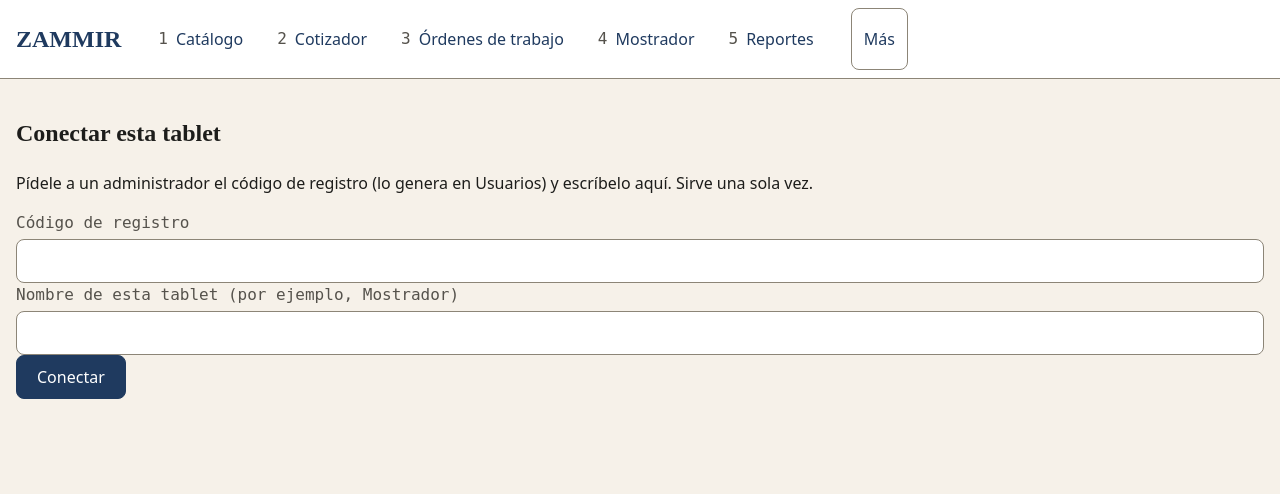
Test: pantalla Conectar esta tablet › si el servidor responde NETWORK_UNAVAILABLE, dice qué pasó y qué hacer
Type "ABCD2345" into the field labelled "Código de registro" at (640, 261), box [16,239,1264,283]
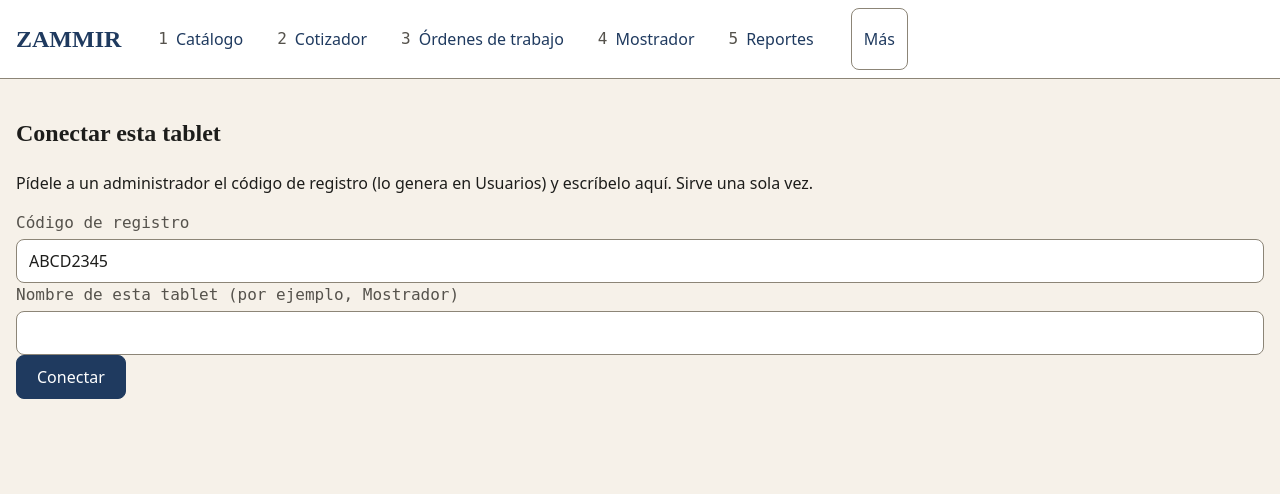
Type "Mostrador" into the field labelled "Nombre de esta tablet (por ejemplo, Mostrador)" at (640, 333), box [16,311,1264,355]
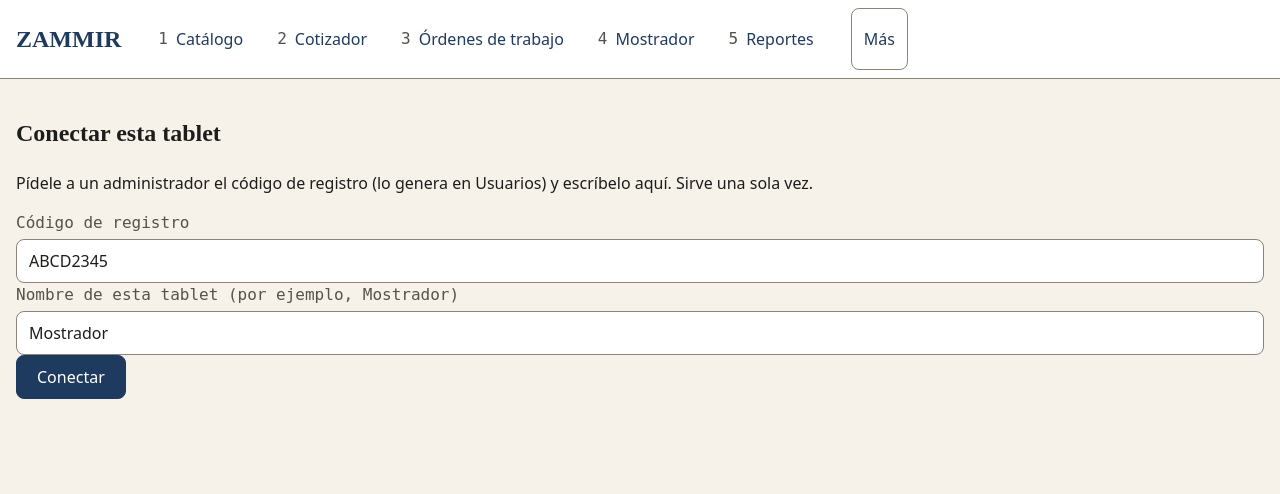
Click the button "Conectar" at (71, 377), box [16,355,126,399]
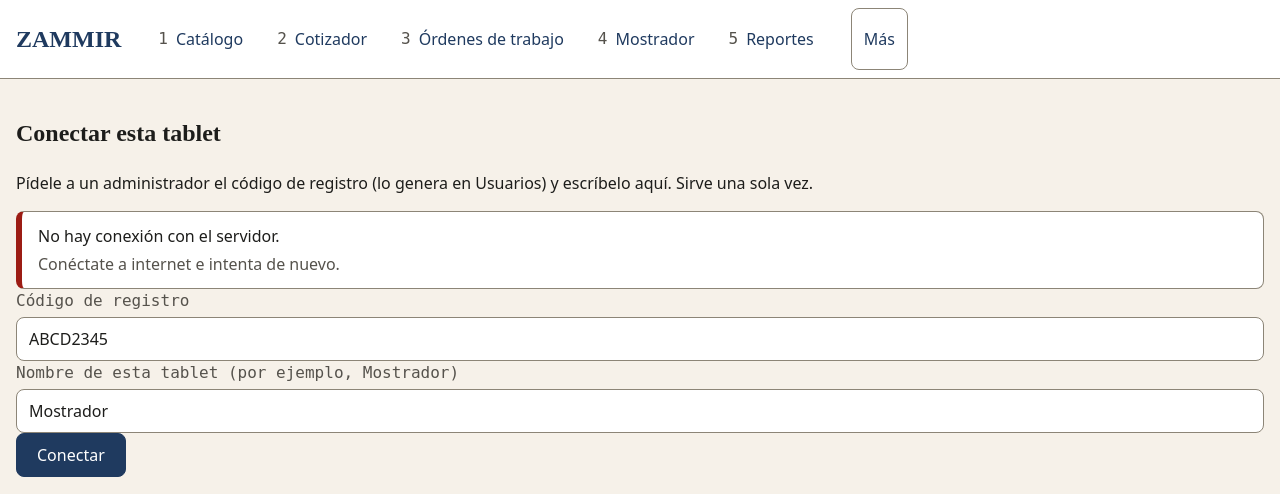
expect the text "No hay conexión con el servidor." is shown: met, box [38,225,280,247]
expect the text "Conéctate a internet e intenta de nuevo." is shown: met, box [38,253,340,275]
